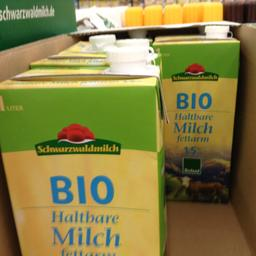milk: (1, 50, 170, 255), (154, 26, 240, 204)
